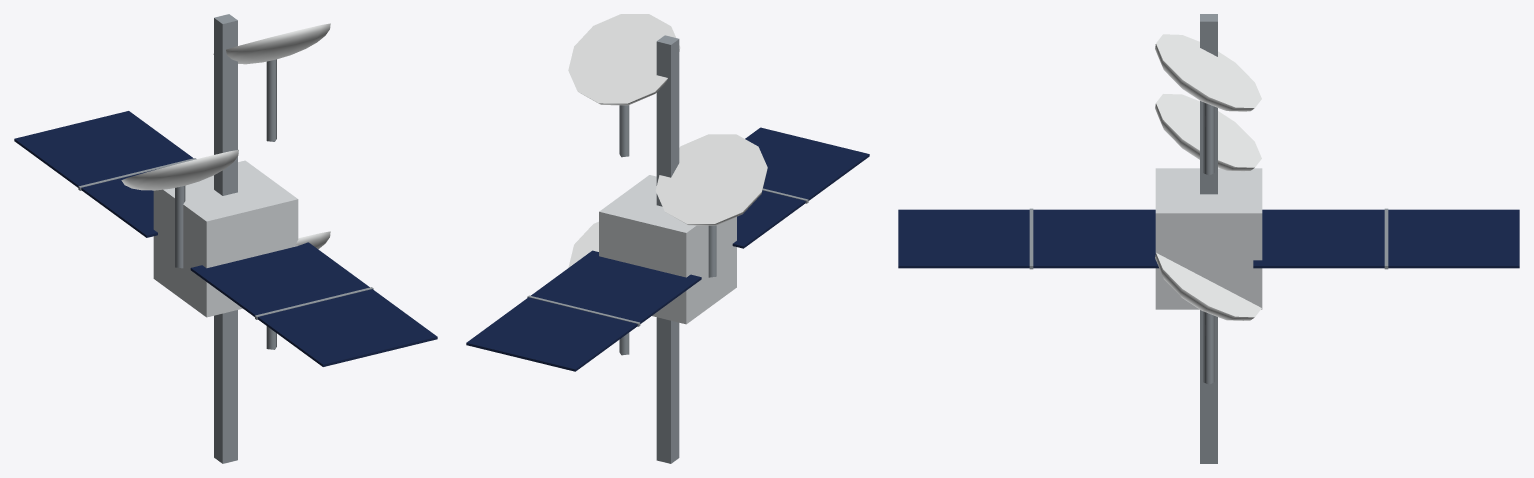
The model's file is space_orbital_relay_t1.glb.
3 views of the same model, side by side, from view 1: azimuth 30°, elevation 25°; view 2: azimuth 150°, elevation 25°; view 3: azimuth 270°, elevation 25° (orthographic). The views are drawn at different scales.
Visible parts, largest first — view 1: body, solar_0, solar_1, antenna_1, antenna_2, antenna_0; view 2: body, solar_1, antenna_1, antenna_2, solar_0, antenna_0; view 3: body, solar_1, solar_0, antenna_2, antenna_1, antenna_0.
Boxes of the visible parts, <box> form: body: <box>153,14,298,463</box>; solar_0: <box>190,242,437,366</box>; solar_1: <box>14,111,196,237</box>; antenna_1: <box>121,149,238,268</box>; antenna_2: <box>213,23,330,141</box>; antenna_0: <box>266,231,330,349</box>; body: <box>599,35,736,463</box>; solar_1: <box>466,250,701,371</box>; antenna_1: <box>655,134,767,277</box>; antenna_2: <box>568,14,680,157</box>; solar_0: <box>732,127,869,248</box>; antenna_0: <box>568,221,629,355</box>; body: <box>1155,14,1262,463</box>; solar_1: <box>1253,208,1519,269</box>; solar_0: <box>898,208,1158,269</box>; antenna_2: <box>1155,34,1261,175</box>; antenna_1: <box>1155,94,1261,171</box>; antenna_0: <box>1155,253,1261,384</box>.
Size of what is drawn, in the model's own units: 5.16 by 11 by 14.
